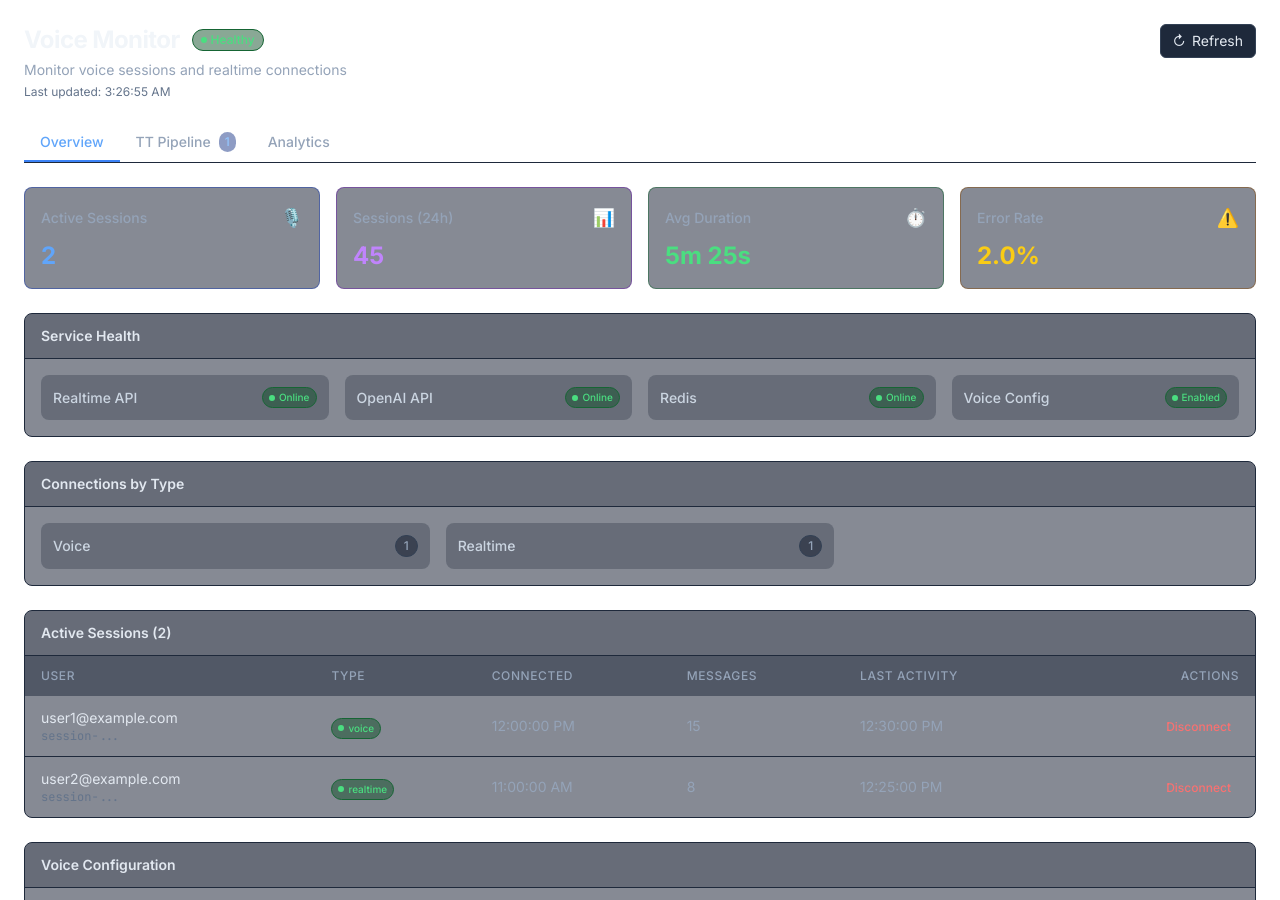
Test: VoiceMonitorPage › disconnect functionality › should show confirmation dialog when disconnect is clicked
Click the button "Disconnect" in the row of "user1@example.com".
click(1199, 727)  # box 1158,715 -> 1239,739
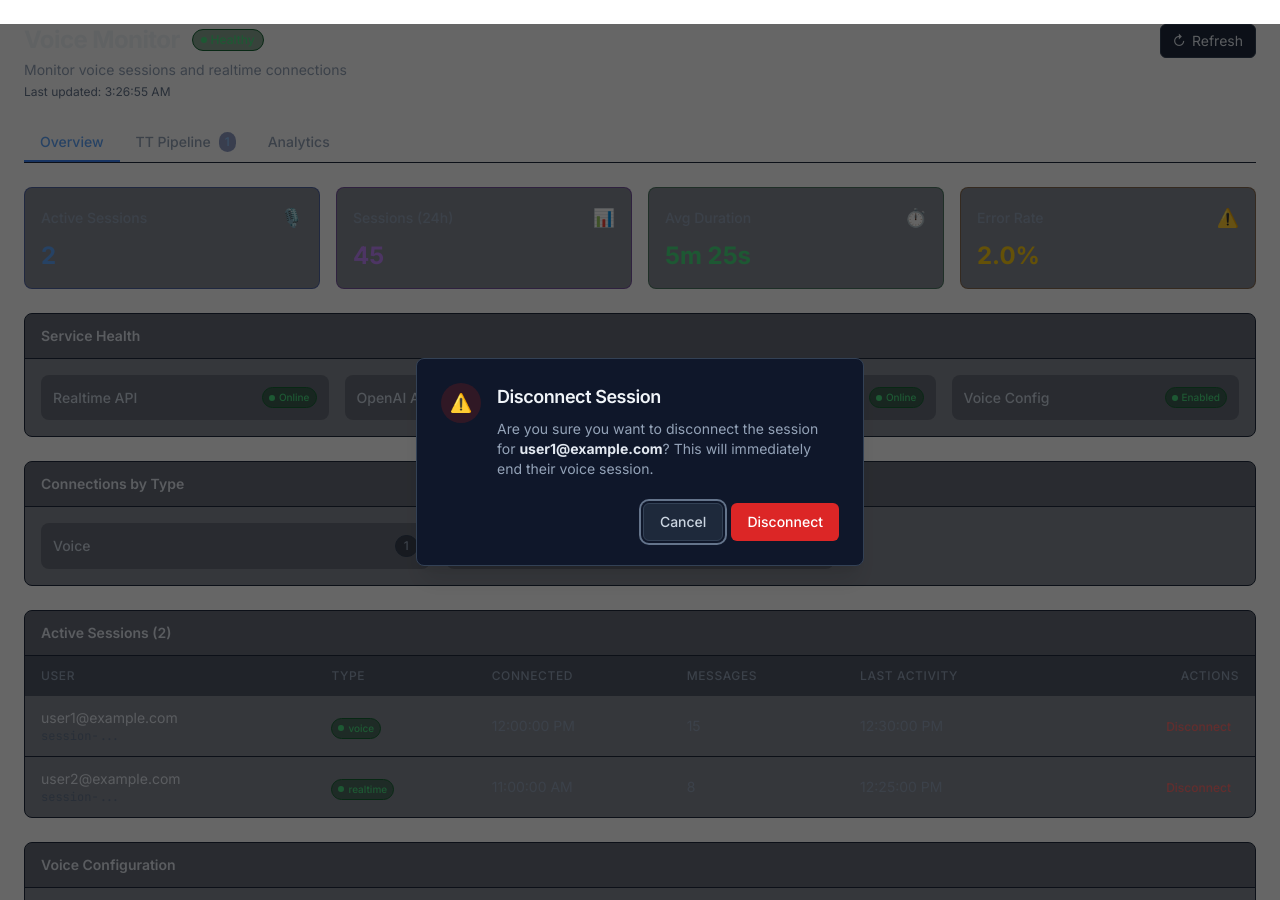
Result: the heading "Disconnect Session" is shown at 497,386 -> 661,407
Result: the text "Are you sure you want to disconnect" is shown at 497,420 -> 818,457
